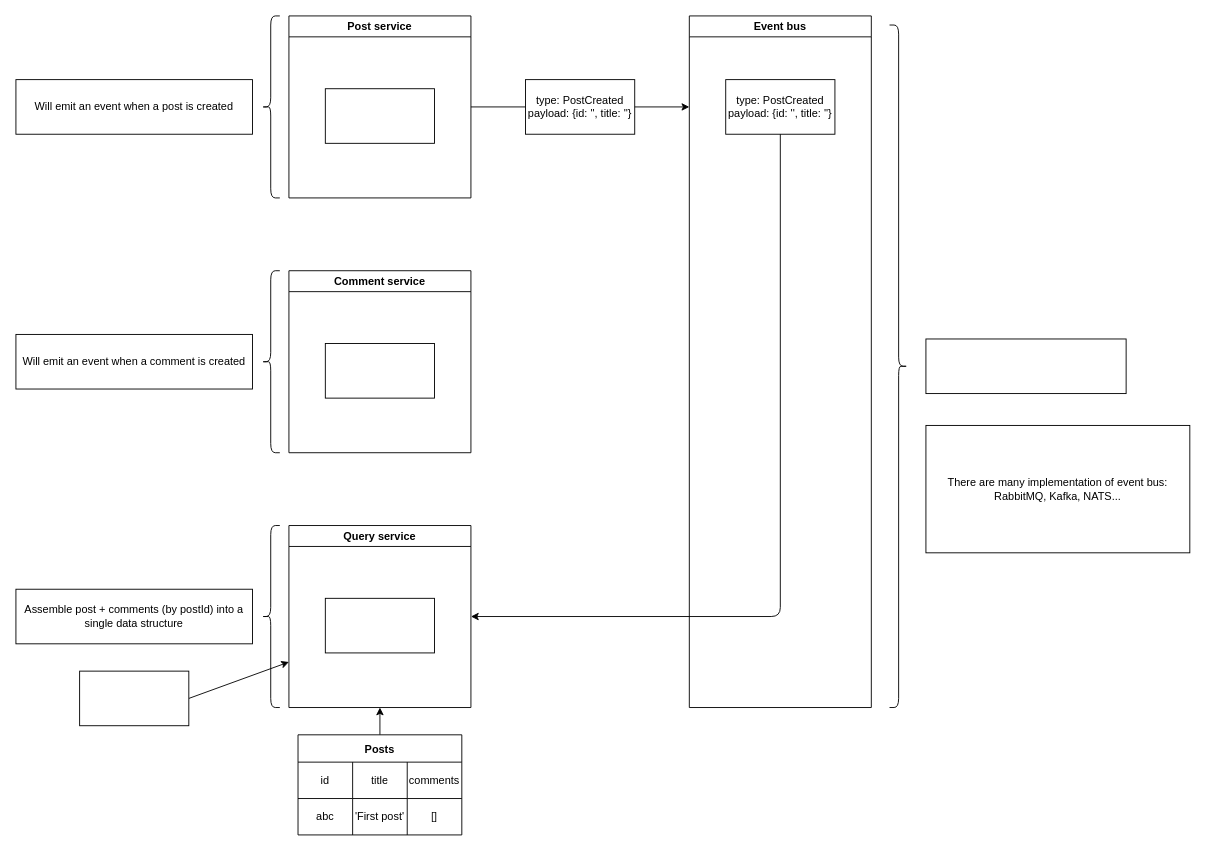
The diagram is 1206 pixels wide and 851 high, and some of its shapes have lost their labels. Here are the shapes that lost their labels. From the top down, the centre of each, then its label:
At point (379, 115): "Post features".
At point (379, 370): "Comment features".
At point (1025, 366): "Receive events, and emit them for interested in parties".
At point (379, 625): "Query features".
At point (134, 698): "GET /posts".
